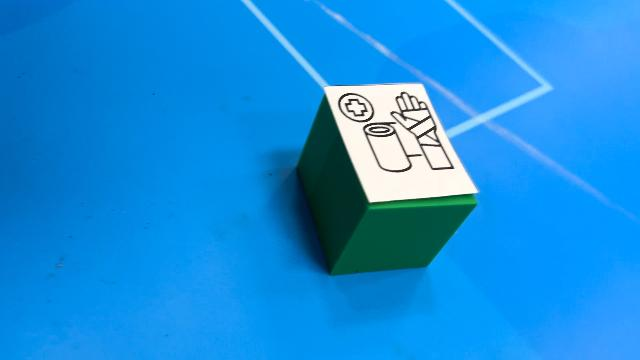bandage: (296, 82, 480, 276)
